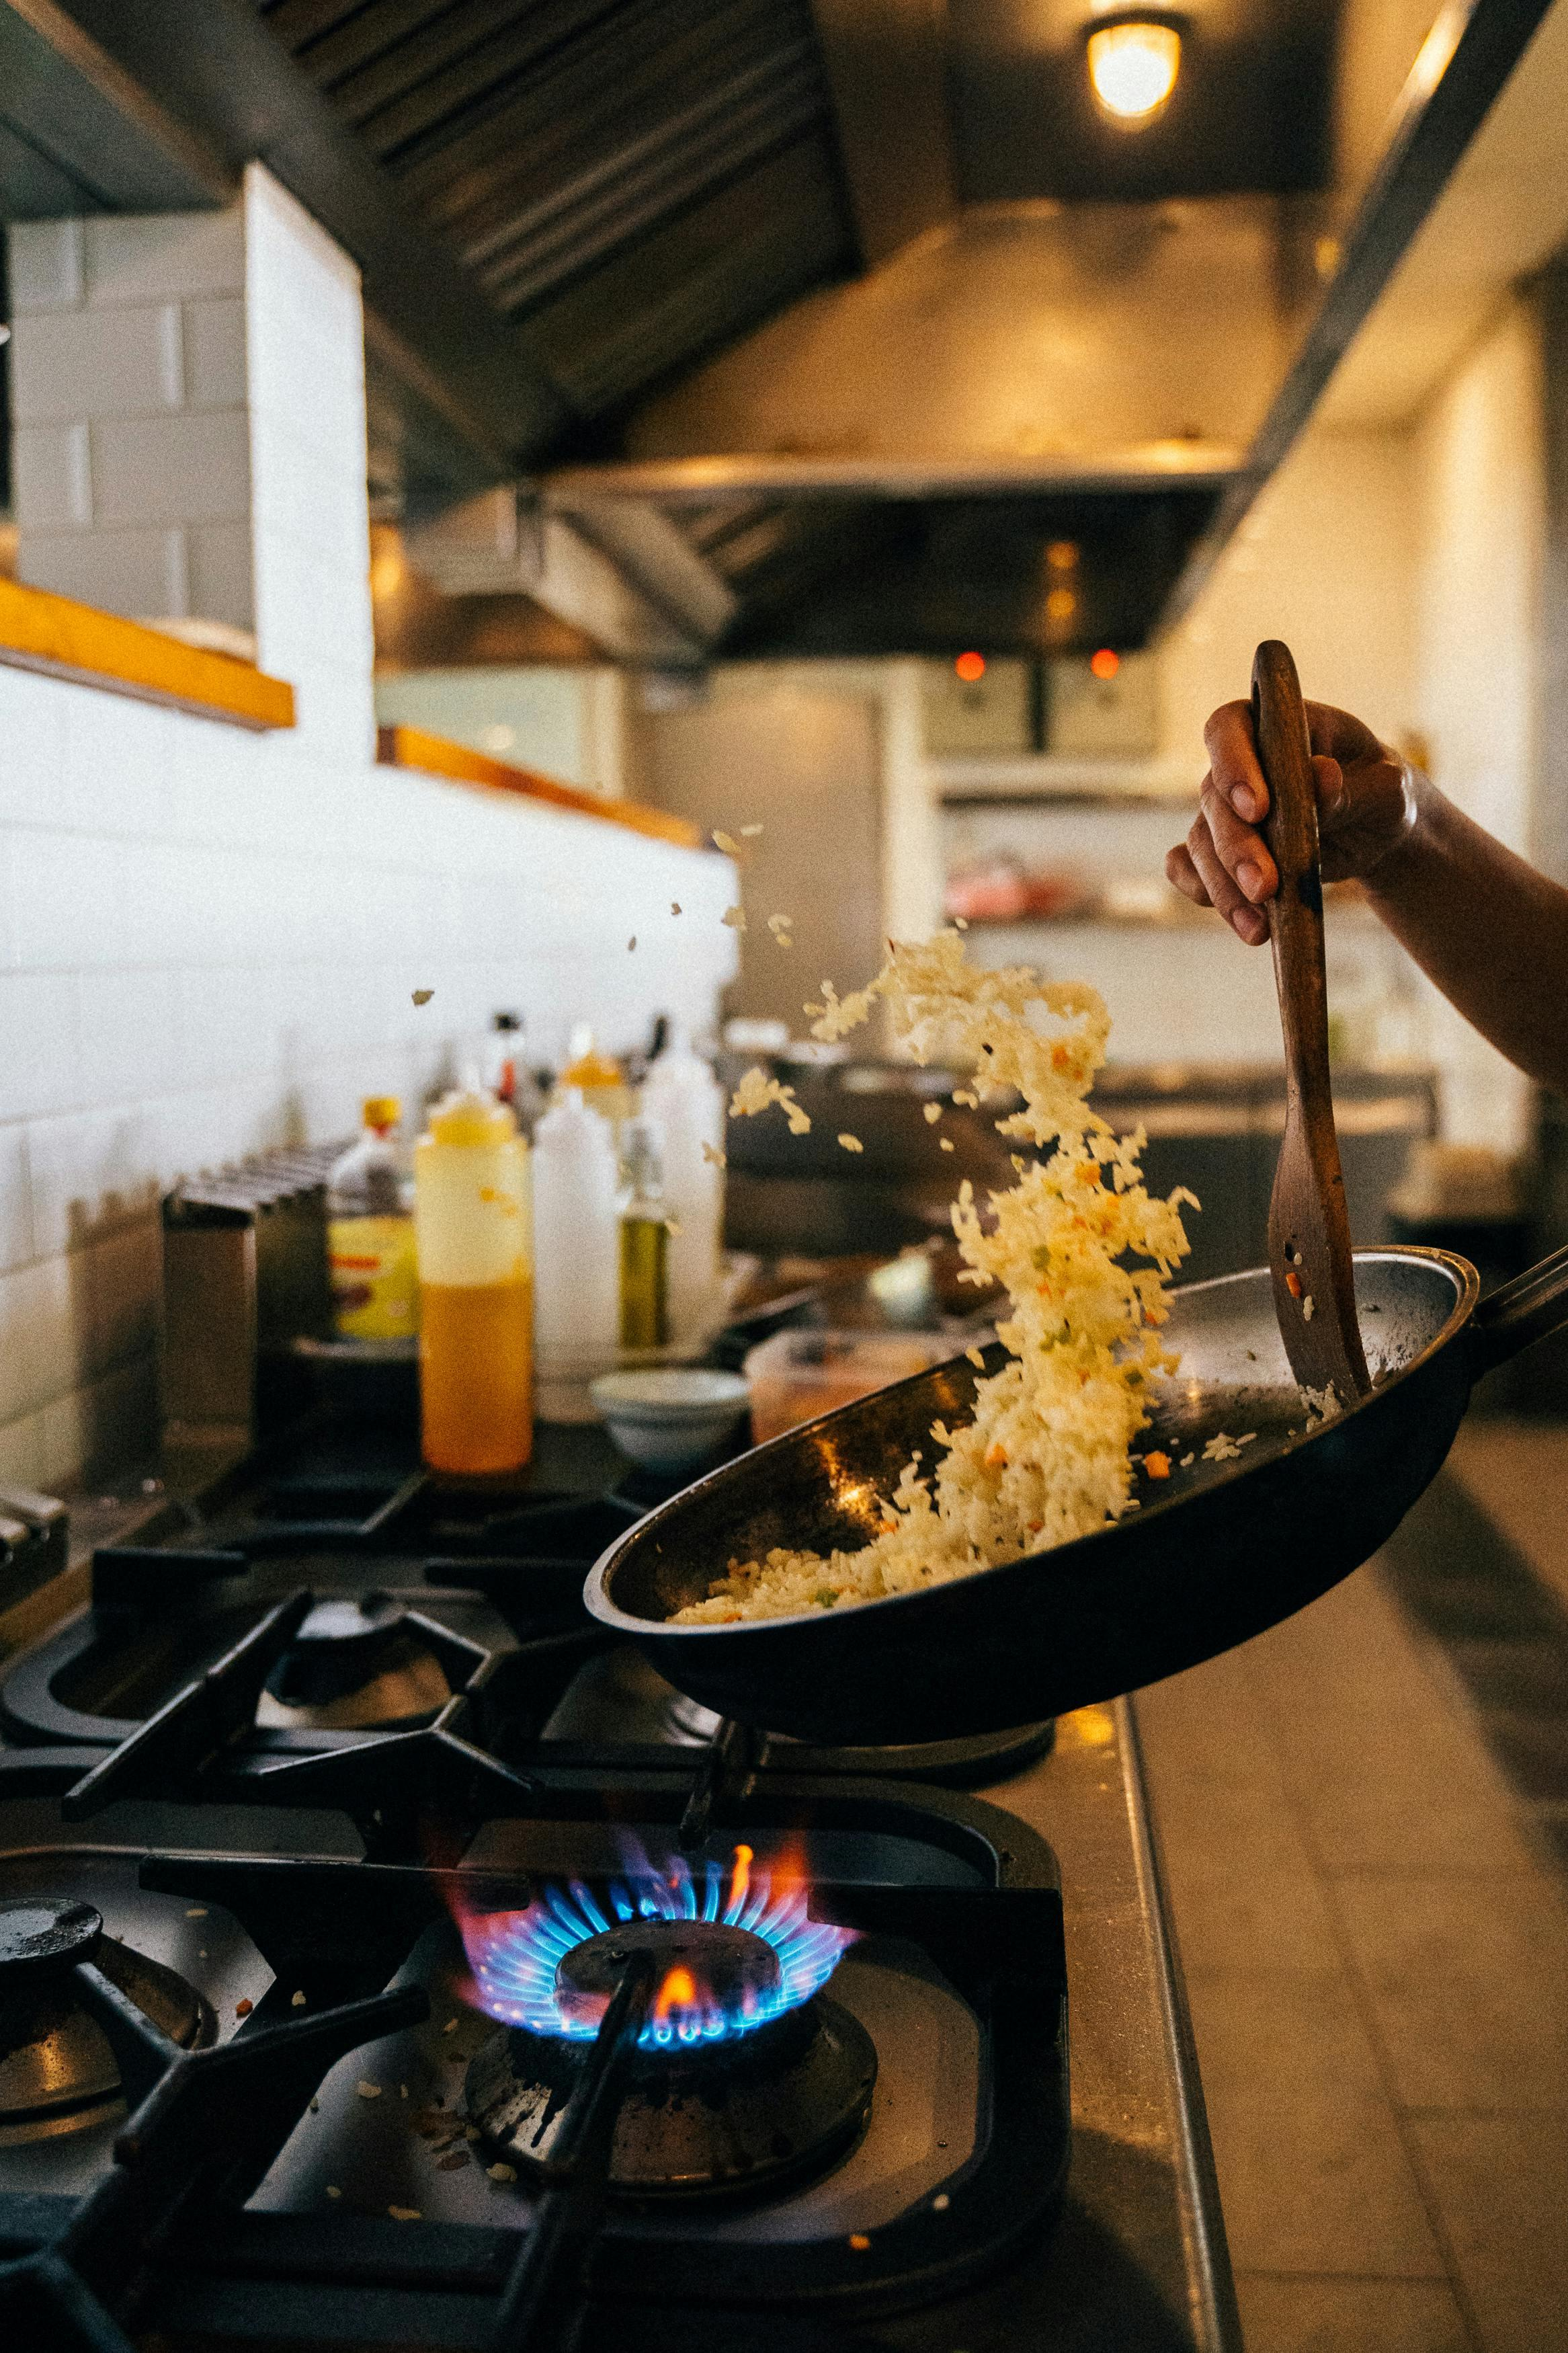Fire: (437, 1810, 903, 2115)
